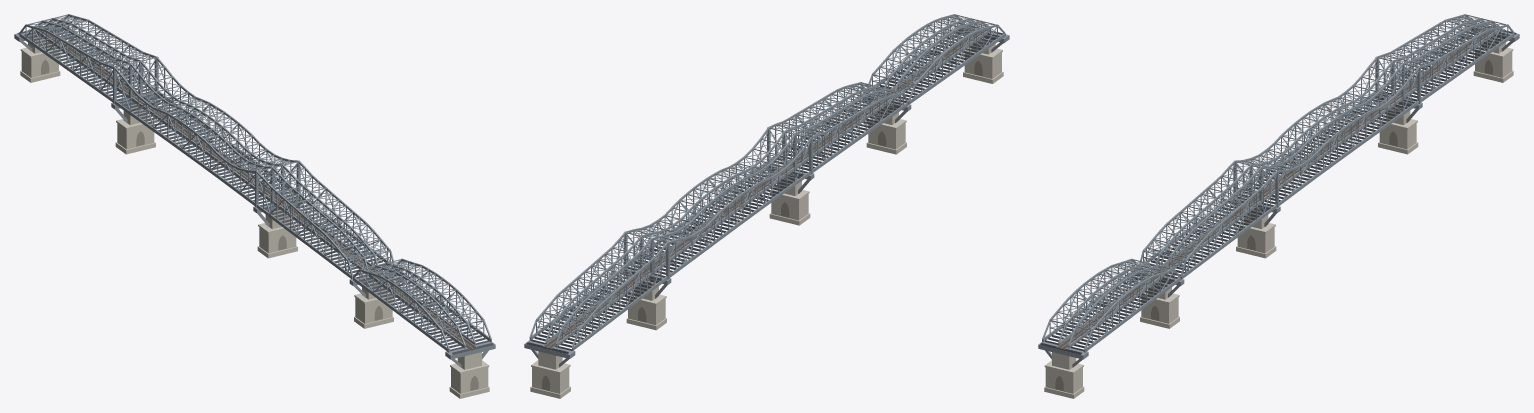
File: nola-huey-p-long-bridge.detail.glb
The picture shows the model from 3 angles, left to right: view 1: azimuth 30°, elevation 25°; view 2: azimuth 150°, elevation 25°; view 3: azimuth 330°, elevation 25°; orthographic projection.
Visible parts, largest first — view 1: Huey P. Long Bridge; view 2: Huey P. Long Bridge; view 3: Huey P. Long Bridge.
Boxes of the visible parts, x1=… form: Huey P. Long Bridge: x1=14, y1=14, x2=495, y2=398; Huey P. Long Bridge: x1=524, y1=14, x2=1009, y2=398; Huey P. Long Bridge: x1=1038, y1=14, x2=1519, y2=398.
Size of the model in its own units: 44.2 by 79.6 by 745.
